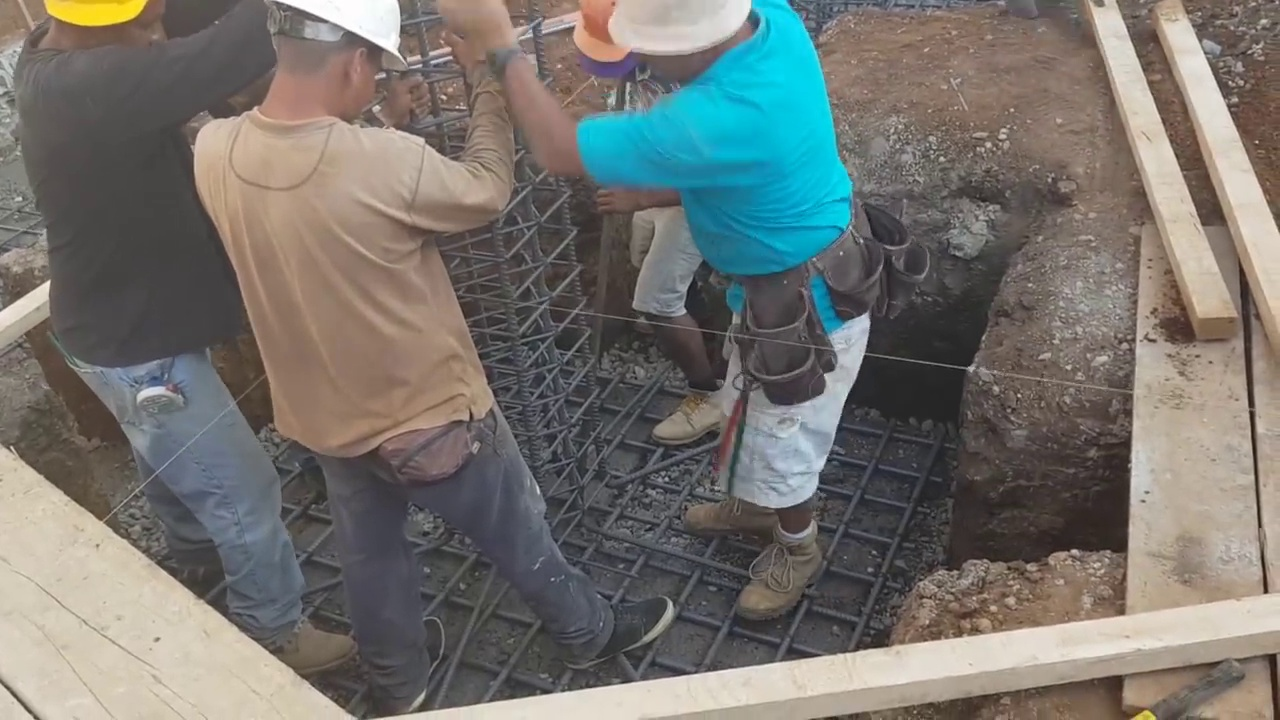helmet: (280, 0, 411, 72), (575, 0, 635, 70)
helmet-off: (604, 0, 767, 86)
helmet-on: (242, 3, 404, 126), (566, 2, 636, 104), (37, 0, 145, 60)
person: (190, 0, 662, 705), (484, 0, 890, 641), (0, 0, 369, 699), (573, 0, 739, 461)
